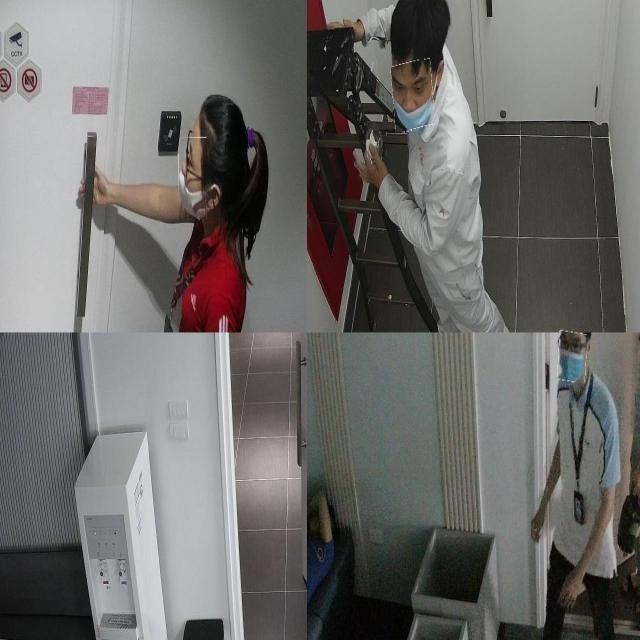hairnet: (392, 60, 434, 131), (179, 136, 207, 220)
